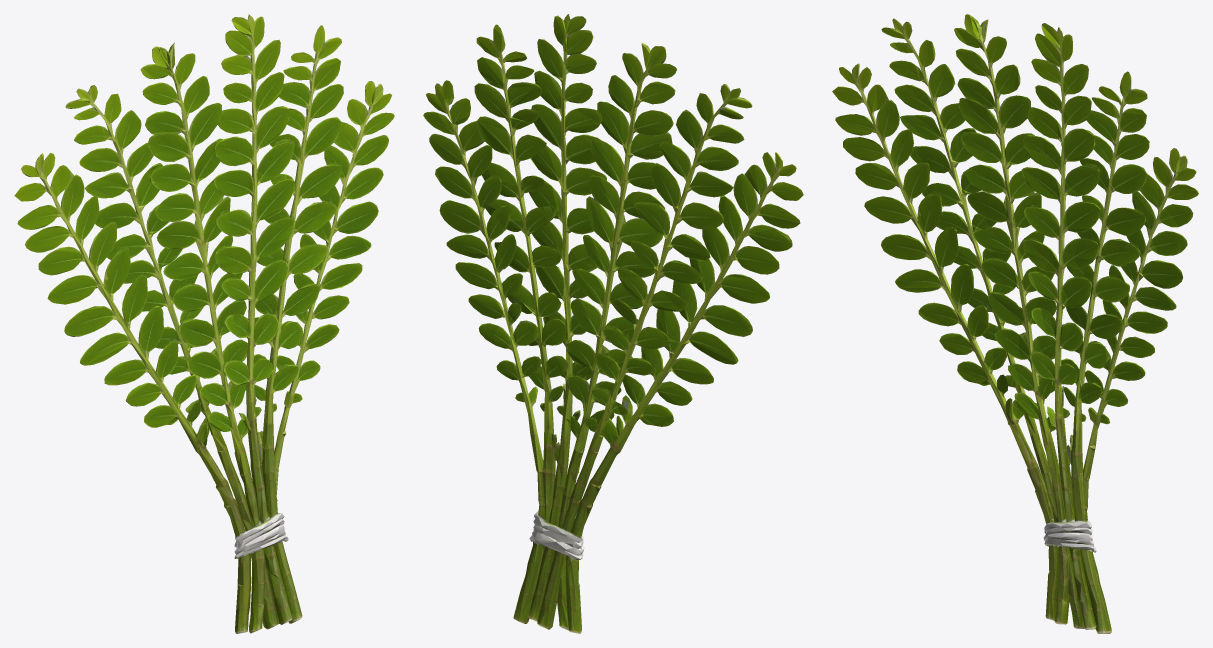
File: e4mayom.glb
3 renders of one model, left to right at view 1: azimuth 30°, elevation 25°; view 2: azimuth 150°, elevation 25°; view 3: azimuth 330°, elevation 25°, orthographic. The views are drawn at different scales.
Visible parts, largest first — view 1: output_unwrapped; view 2: output_unwrapped; view 3: output_unwrapped.
Boxes of the visible parts, box(x1,y1,x2,y2) form: output_unwrapped: box(14, 14, 394, 633); output_unwrapped: box(423, 14, 803, 633); output_unwrapped: box(832, 14, 1198, 633).
Bounding box in the file's own units: 0.1539 × 0.24 × 0.00768.
Materials: 1 (1 with a texture image).
